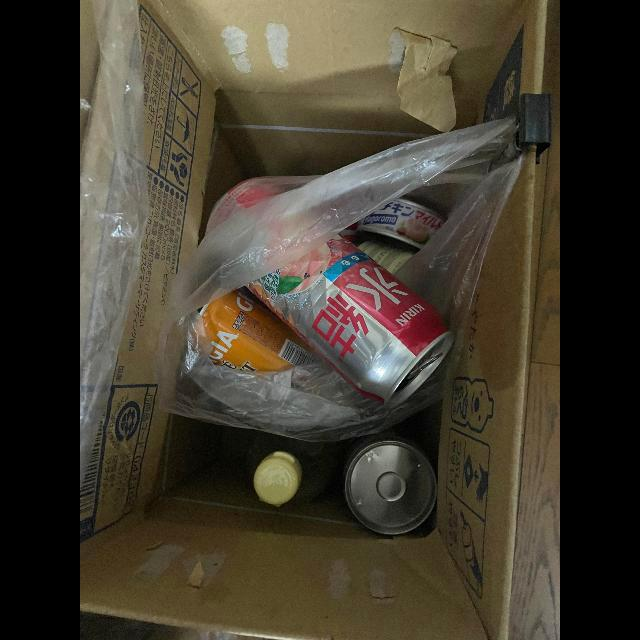aluminum: (247, 239, 454, 405), (200, 288, 323, 372), (344, 441, 437, 536), (356, 198, 449, 250), (206, 178, 289, 233)
